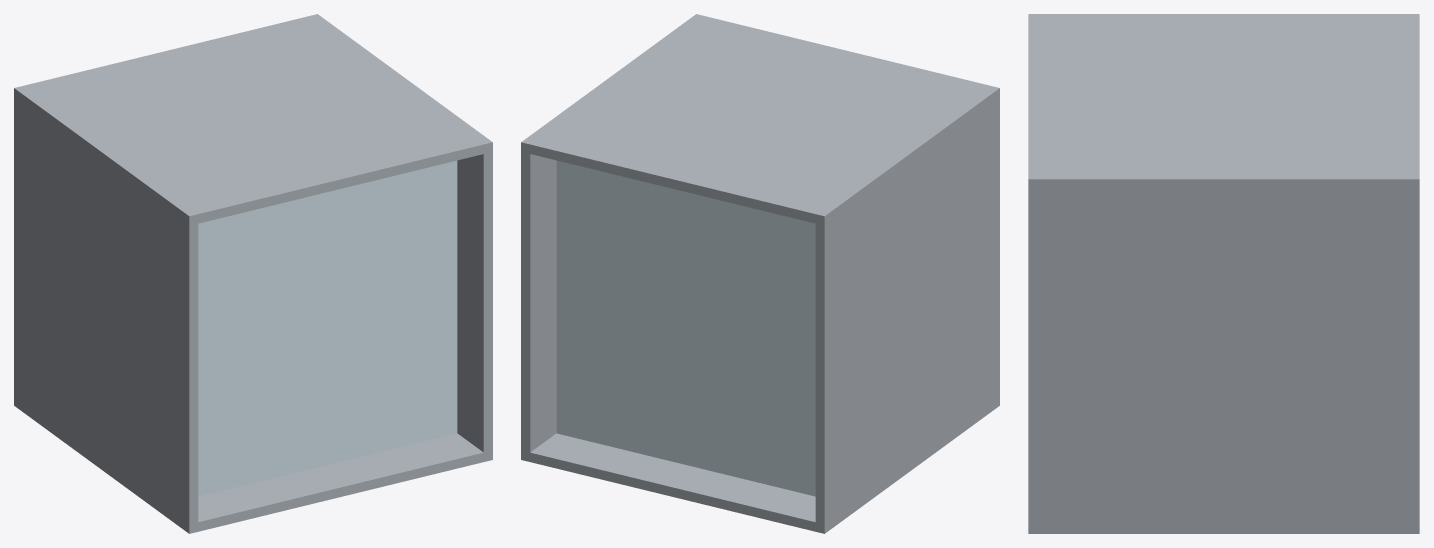
The model's file is glass_partition.glb.
3 renders of one model, left to right at view 1: azimuth 30°, elevation 25°; view 2: azimuth 150°, elevation 25°; view 3: azimuth 270°, elevation 25°, orthographic. The views are drawn at different scales.
Parts seen in each view (by area): view 1: HardwareTrim, GlassPane; view 2: HardwareTrim, GlassPane; view 3: HardwareTrim.
Part boxes in pixels (x1=…): HardwareTrim: x1=14, y1=14, x2=492, y2=533; GlassPane: x1=198, y1=160, x2=457, y2=496; HardwareTrim: x1=521, y1=14, x2=999, y2=533; GlassPane: x1=556, y1=160, x2=815, y2=496; HardwareTrim: x1=1028, y1=14, x2=1419, y2=533.
Size of the model in its own units: 2 by 2 by 2.
